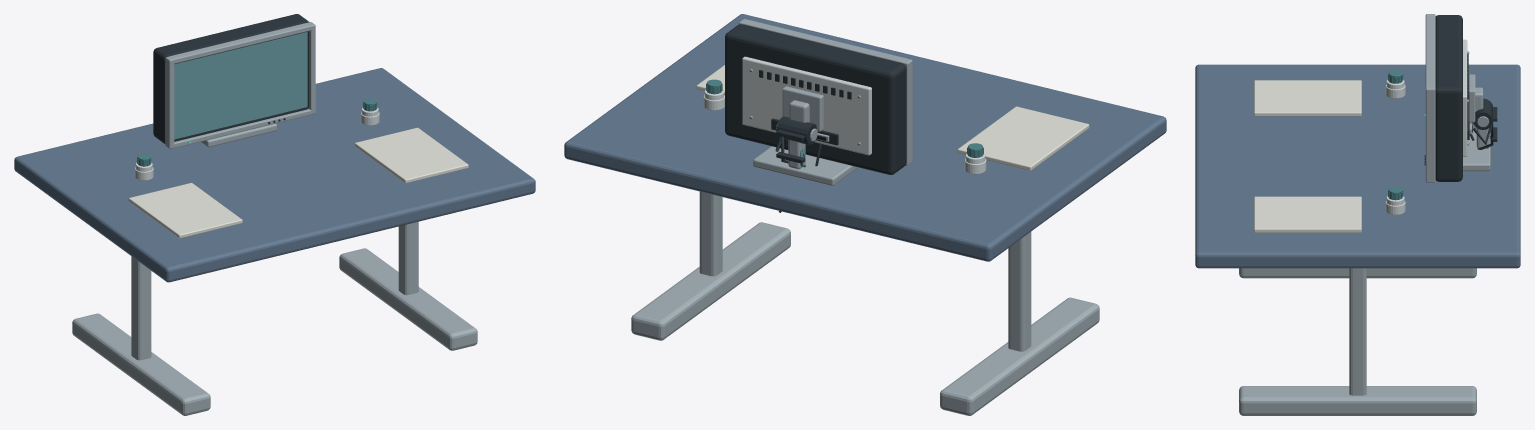
The model's file is SF_BriefingTable.fbx.
3 views of the same model, side by side, from view 1: azimuth 30°, elevation 25°; view 2: azimuth 150°, elevation 25°; view 3: azimuth 270°, elevation 25° (orthographic). The views are drawn at different scales.
Visible parts, largest first — view 1: SF_BriefingTable; view 2: SF_BriefingTable; view 3: SF_BriefingTable.
Part boxes in pixels (bbox=[...]): SF_BriefingTable: bbox=[14, 14, 535, 415]; SF_BriefingTable: bbox=[564, 14, 1166, 415]; SF_BriefingTable: bbox=[1195, 14, 1520, 415].
Size of the model in its own units: 180 by 128 by 130.
